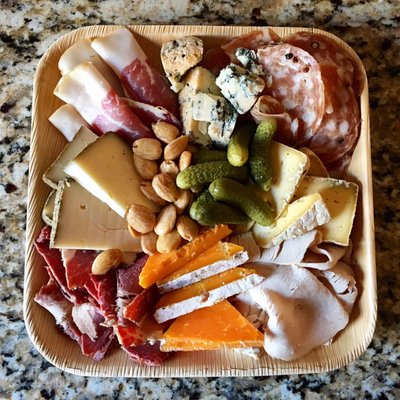pizza: (160, 299, 264, 352)
